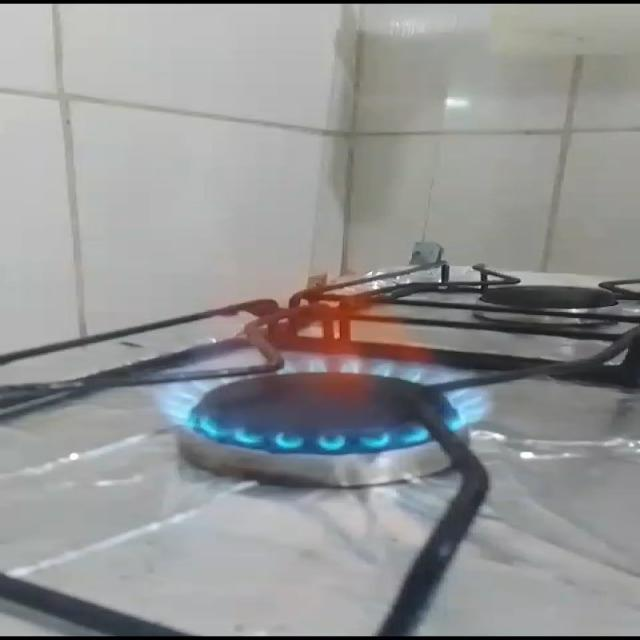fogo-ypXI: (149, 270, 497, 453)
